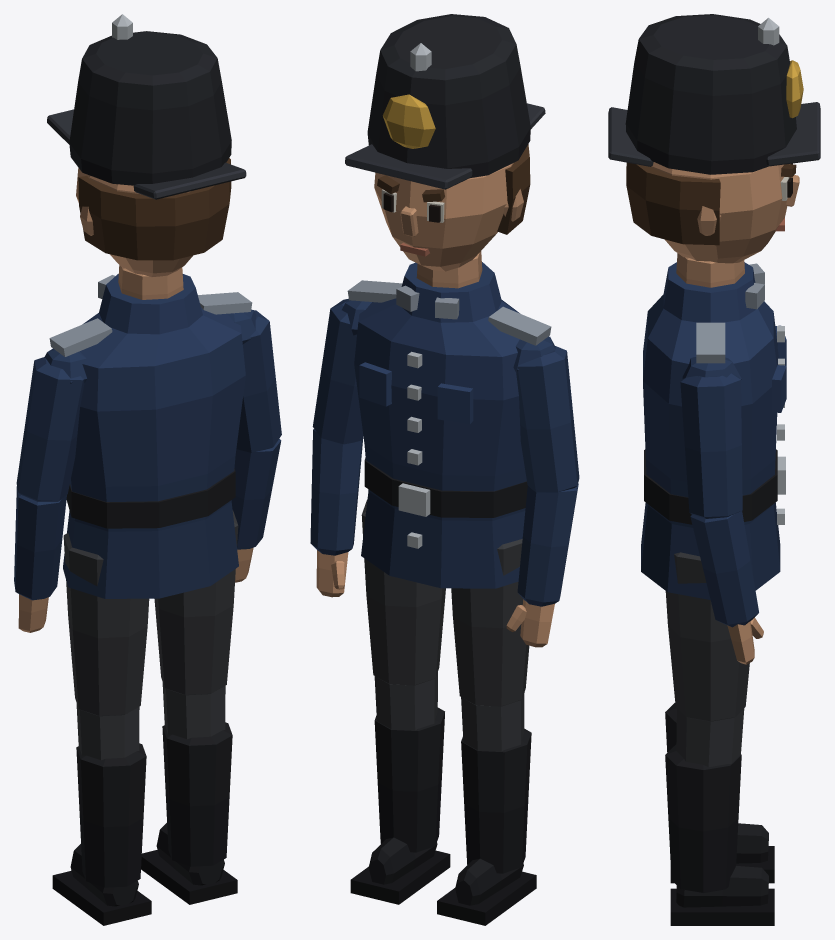
Rendered from chr_police2.glb.
The picture shows the model from 3 angles, left to right: view 1: azimuth 30°, elevation 25°; view 2: azimuth 150°, elevation 25°; view 3: azimuth 270°, elevation 25°; orthographic projection.
Parts seen in each view (by area): view 1: chr_police2_stand; view 2: chr_police2_stand; view 3: chr_police2_stand.
Boxes of the visible parts, bbox=[...] form: chr_police2_stand: bbox=[14, 14, 281, 925]; chr_police2_stand: bbox=[310, 14, 579, 925]; chr_police2_stand: bbox=[608, 14, 820, 925].
Size of the model in its own units: 0.5518 by 1.76 by 0.3871.
